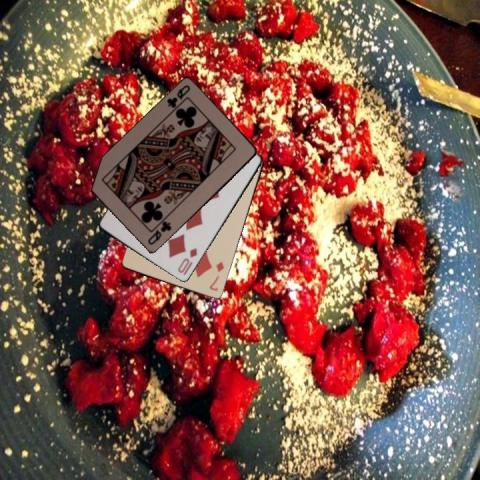10d: (174, 245, 198, 275)
7d: (207, 258, 225, 292)
Qc: (144, 218, 172, 247), (163, 82, 192, 110)
